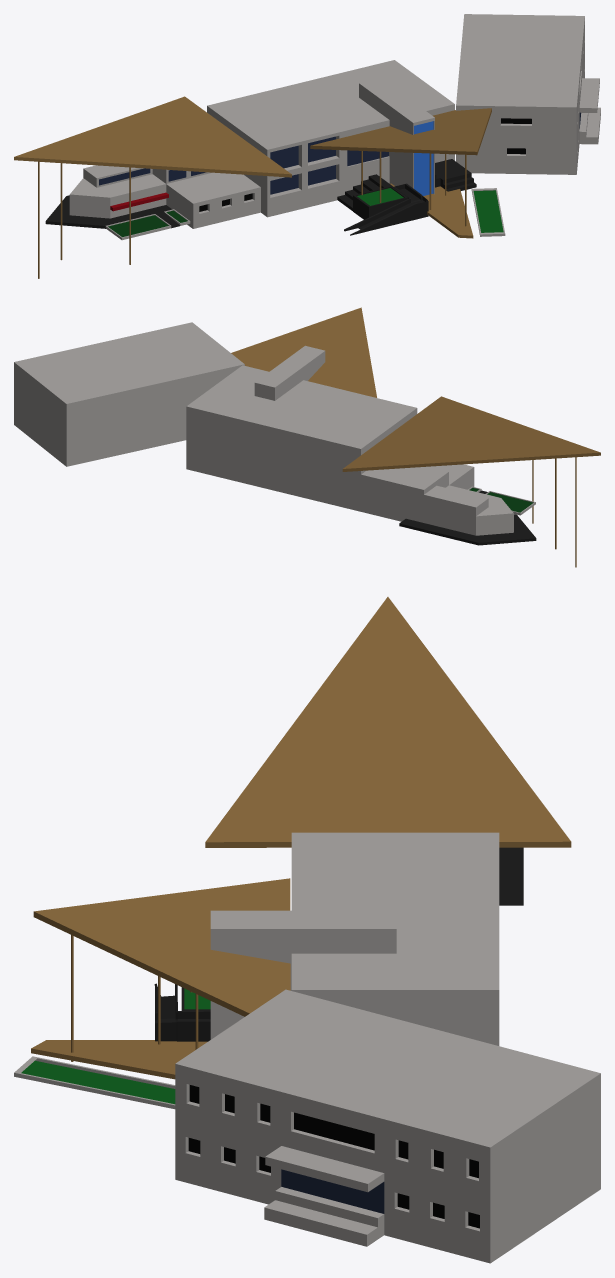
File: carbon.fbx
3 renders of one model, top to bottom at view 1: azimuth 30°, elevation 25°; view 2: azimuth 150°, elevation 25°; view 3: azimuth 270°, elevation 25°, orthographic. The views are drawn at different scales.
Parts seen in each view (by area): view 1: Cube.003, Cube, Plane.002, Cube.002, Plane.001, Cube.001, Plane.003, Plane.004, Cube.008, Cube.009, Cube.004, Cube.011 (+2 smaller); view 2: Cube.003, Cube, Plane.002, Cube.002, Plane.001, Cube.001, Cube.008, Cube.011; view 3: Cube.003, Plane.002, Cube, Plane.001, Cube.001, Plane.004, Cube.009, Plane.003, Cube.008.
Part boxes in pixels (x1,y1,x2,y2): Cube.003: (456,14,600,174); Cube: (207,60,454,217); Plane.002: (14,96,291,177); Cube.002: (69,165,260,228); Plane.001: (310,108,491,155); Cube.001: (359,78,434,195); Plane.003: (344,183,428,235); Plane.004: (390,183,473,238); Cube.008: (45,195,172,228); Cube.009: (471,188,505,236); Cube.004: (353,186,407,219); Cube.011: (105,214,171,240); Cube.003: (14,322,244,466); Cube: (186,365,417,511); Plane.002: (342,396,600,471); Cube.002: (361,464,513,535); Plane.001: (231,307,376,397); Cube.001: (254,345,325,400); Cube.008: (399,514,536,545); Cube.011: (485,491,535,515); Cube.003: (175,989,600,1263); Plane.002: (205,597,571,847); Cube: (291,832,499,1045); Plane.001: (33,878,290,1016); Cube.001: (210,910,396,1039); Plane.004: (31,1040,207,1079); Cube.009: (14,1056,175,1109); Plane.003: (154,983,210,1041); Cube.008: (499,847,523,905).
Size of the model in its own units: 3501 by 717 by 1724.
